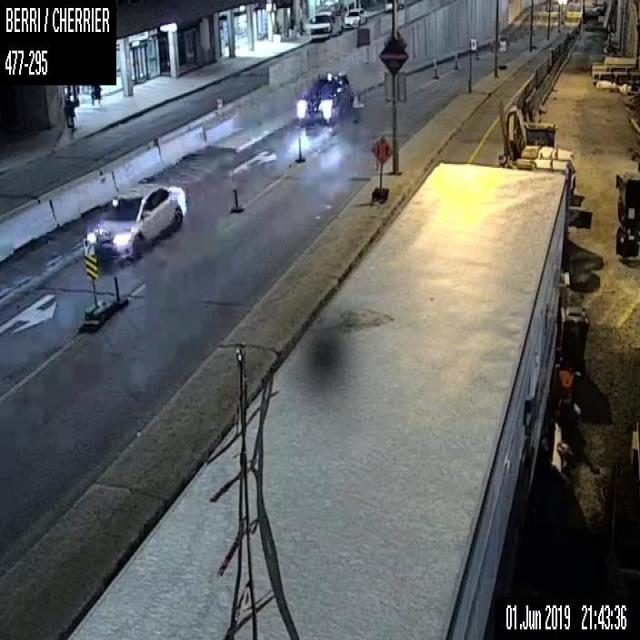construction: (369, 136, 392, 203), (113, 276, 120, 305), (297, 137, 302, 160), (234, 189, 237, 211), (433, 57, 436, 77), (355, 108, 358, 124), (454, 53, 457, 68), (474, 50, 478, 59)
pedestrian: (62, 95, 74, 133)
vehicle: (85, 182, 185, 257), (295, 73, 352, 124), (614, 171, 639, 259), (308, 0, 344, 40), (344, 7, 366, 28), (384, 0, 402, 11)
